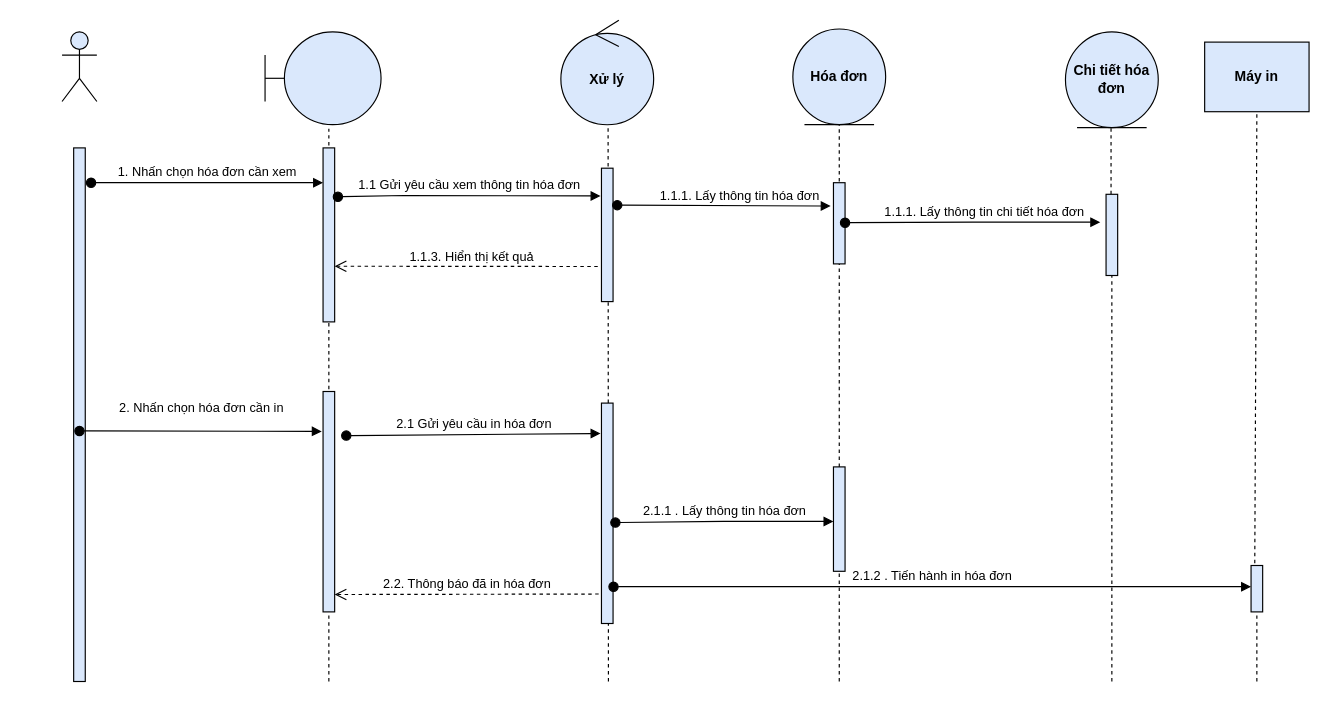
Some shapes in this 1329 by 703 pixel diagram are drawn without their labels. Each missing label, with the centre of its shape:
"form Quản lý hóa đơn" belongs at point (322, 78).
"Quản lý/ Nhân viên" belongs at point (79, 66).
